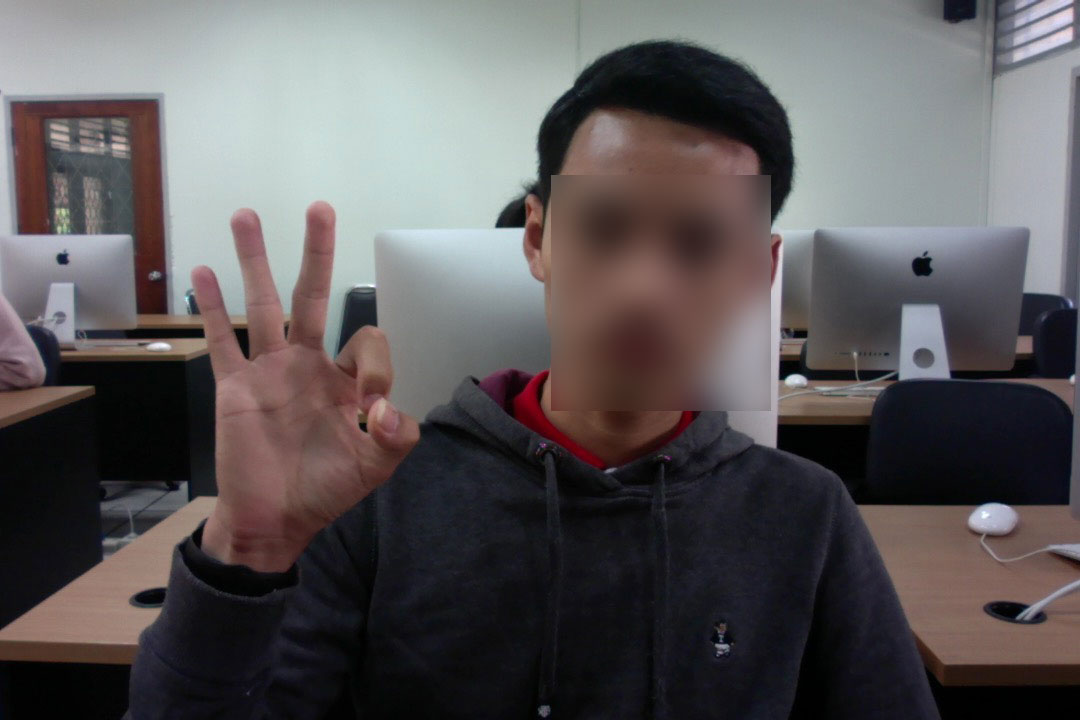for: (142, 186, 435, 586)
